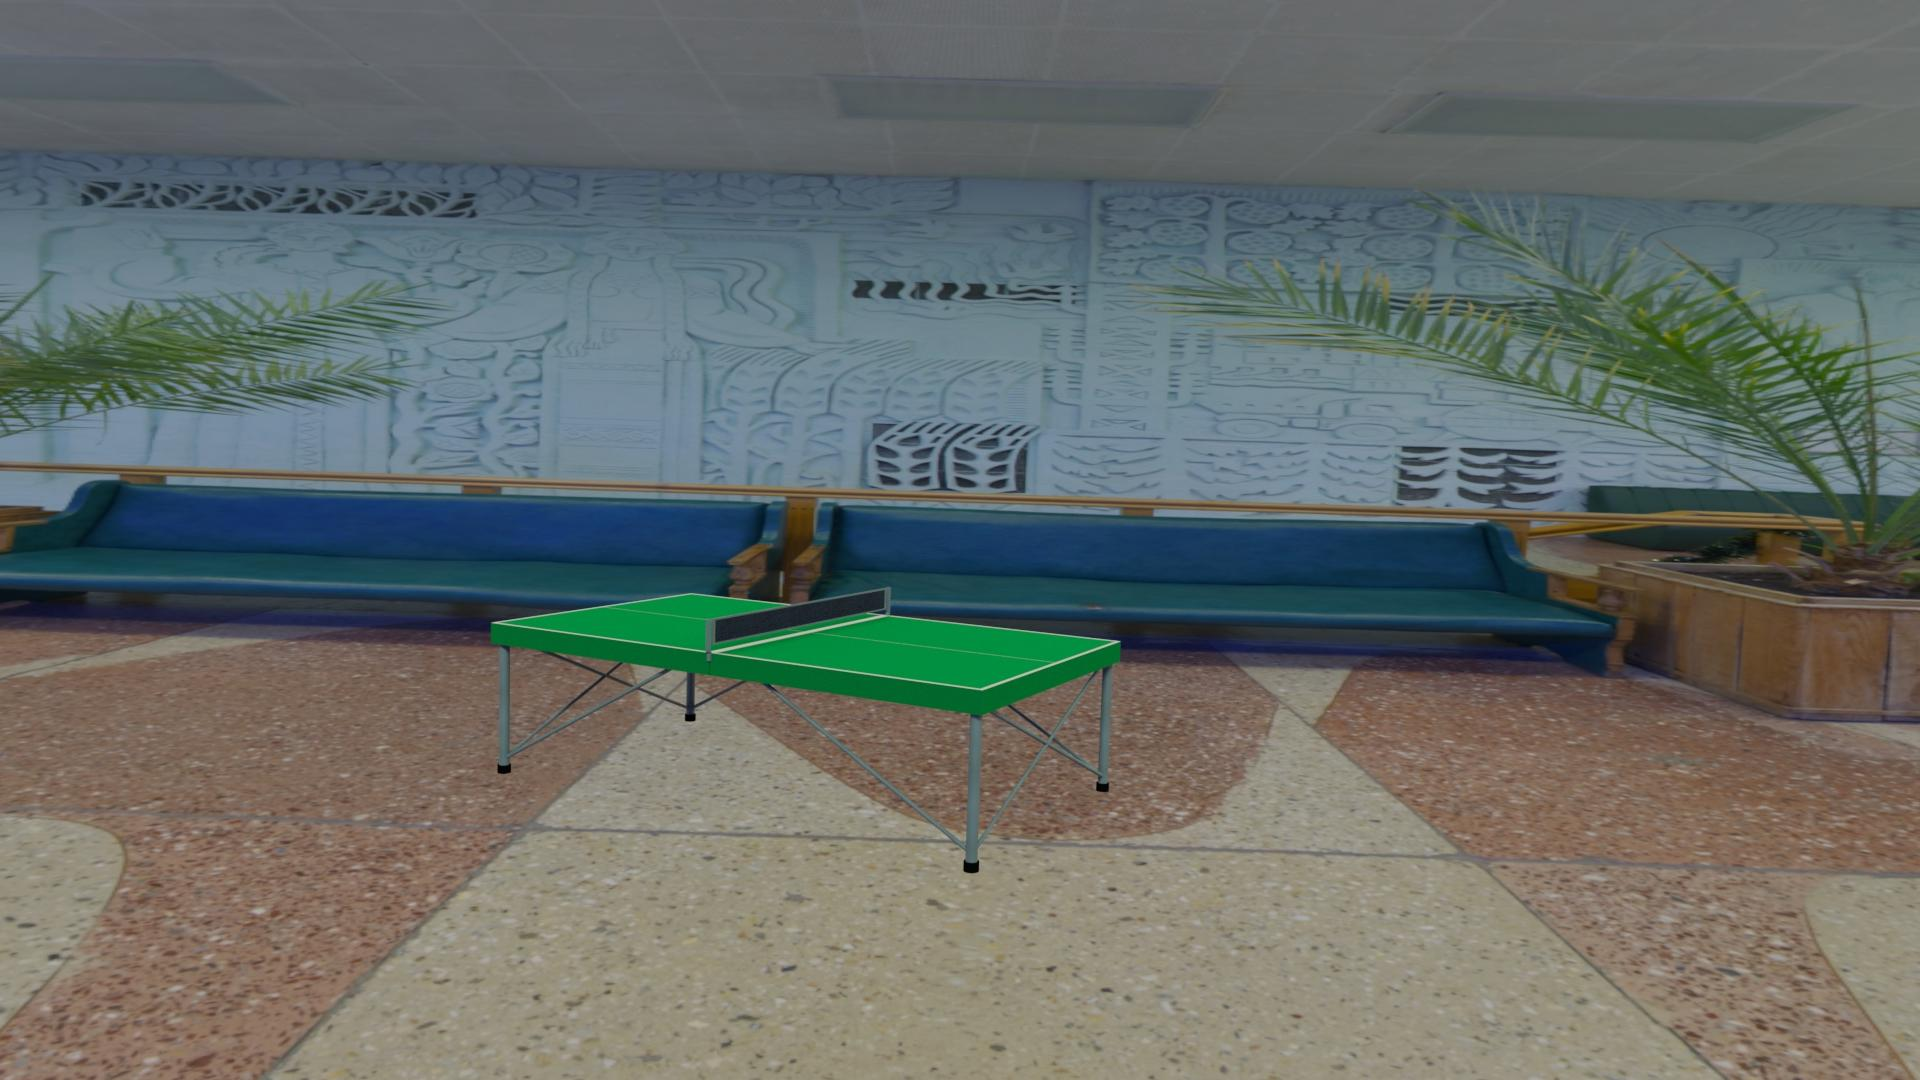table: (497, 593, 1116, 688)
